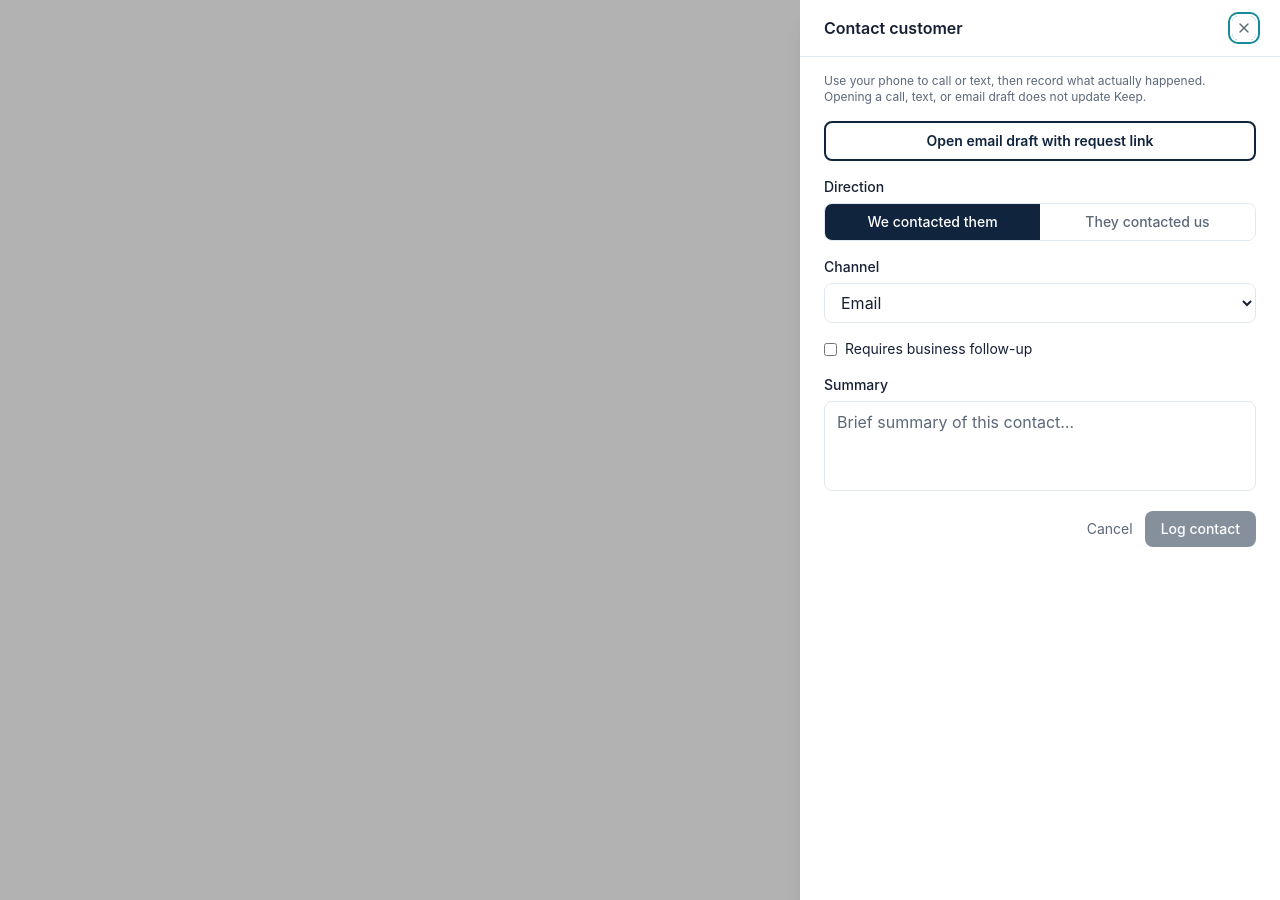
it: LogContactModal — GAP-048 tracker-email share confirmation › requires an explicit post-launch confirmation before recording an email share event
Click the link "Open email draft with request link" at (1040, 141), box [824, 121, 1256, 161]
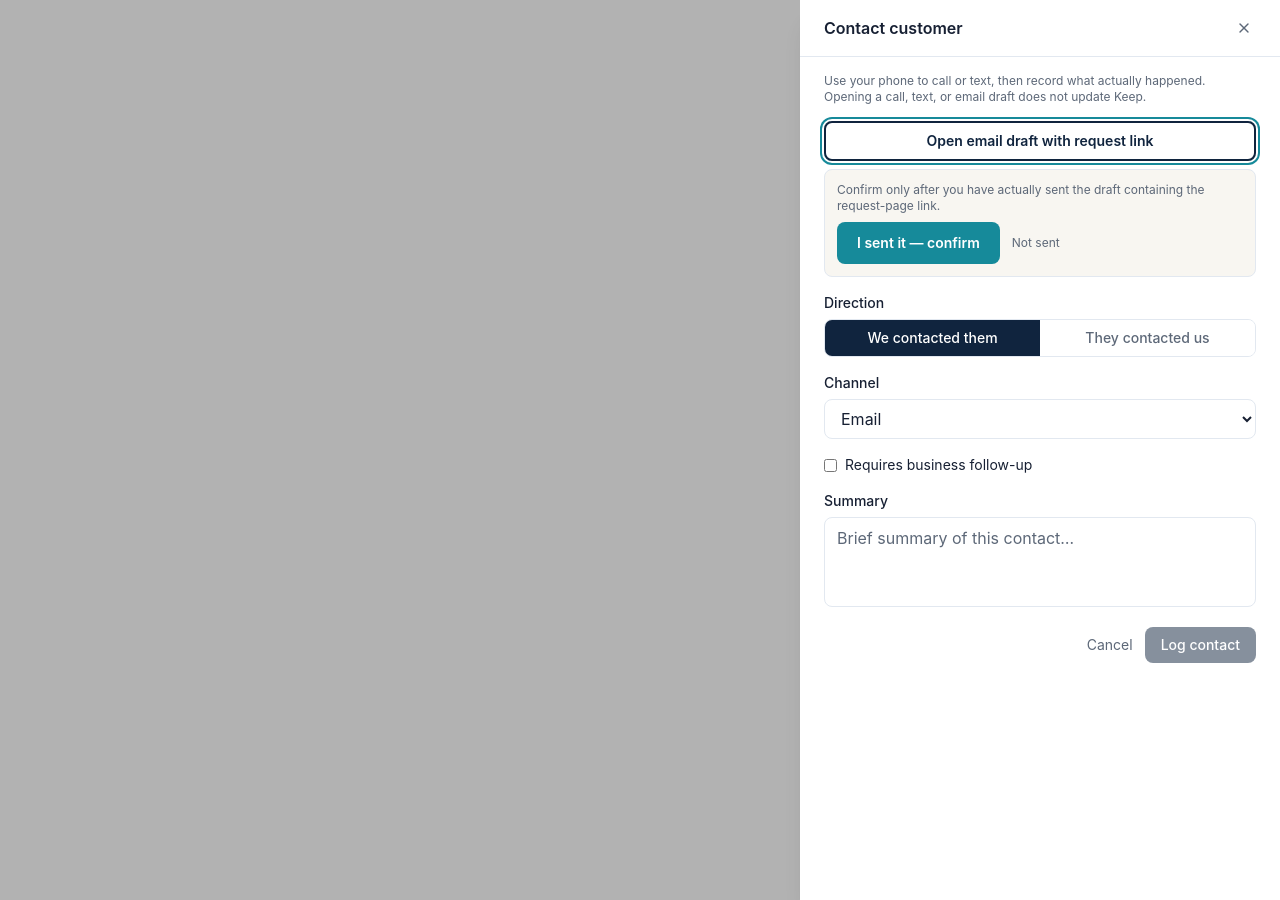
Click the button "I sent it — confirm" at (918, 243), box [837, 222, 1000, 264]
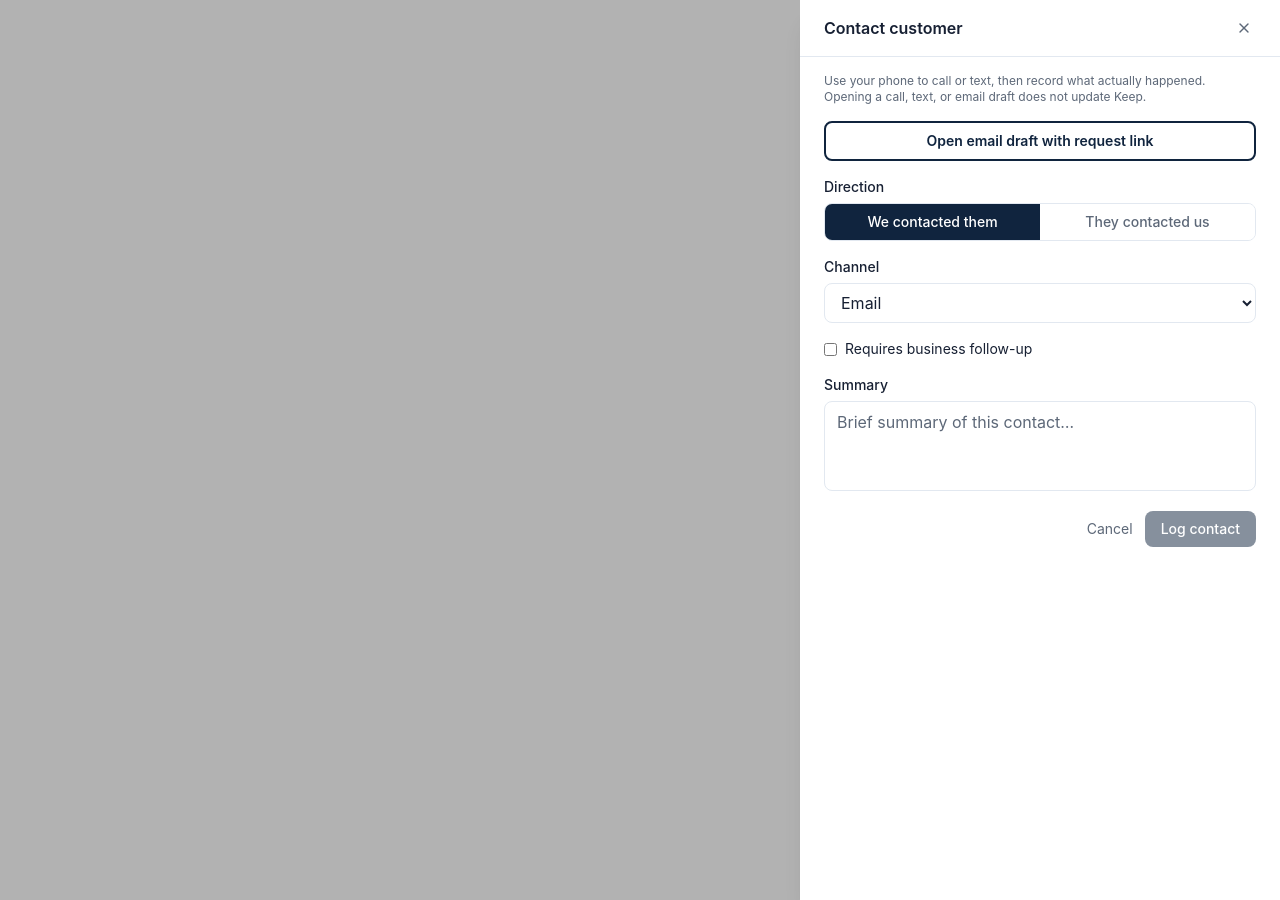
Check: the button "I sent it — confirm" is gone
